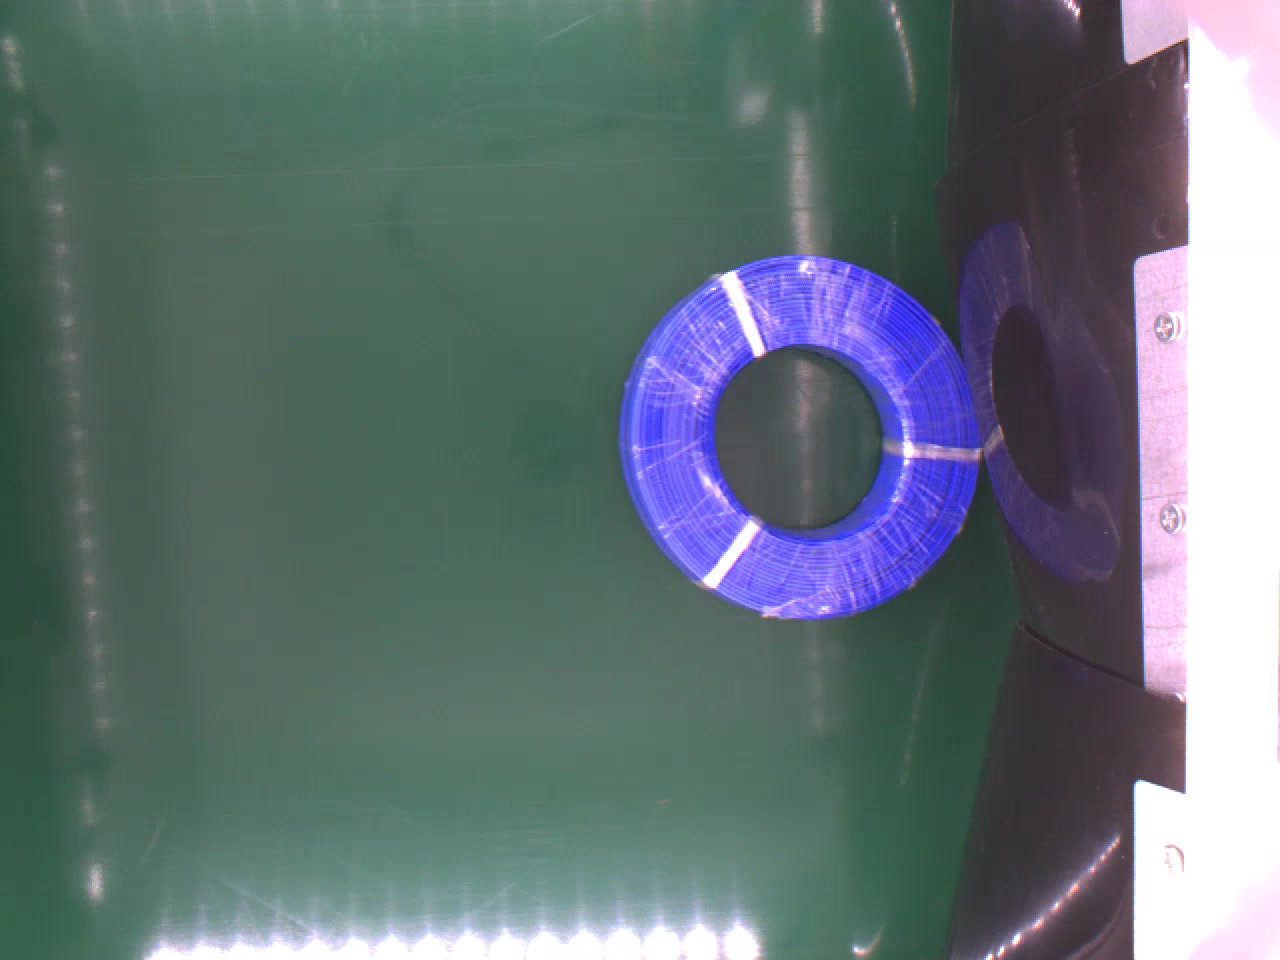blue: (622, 253, 983, 622)
